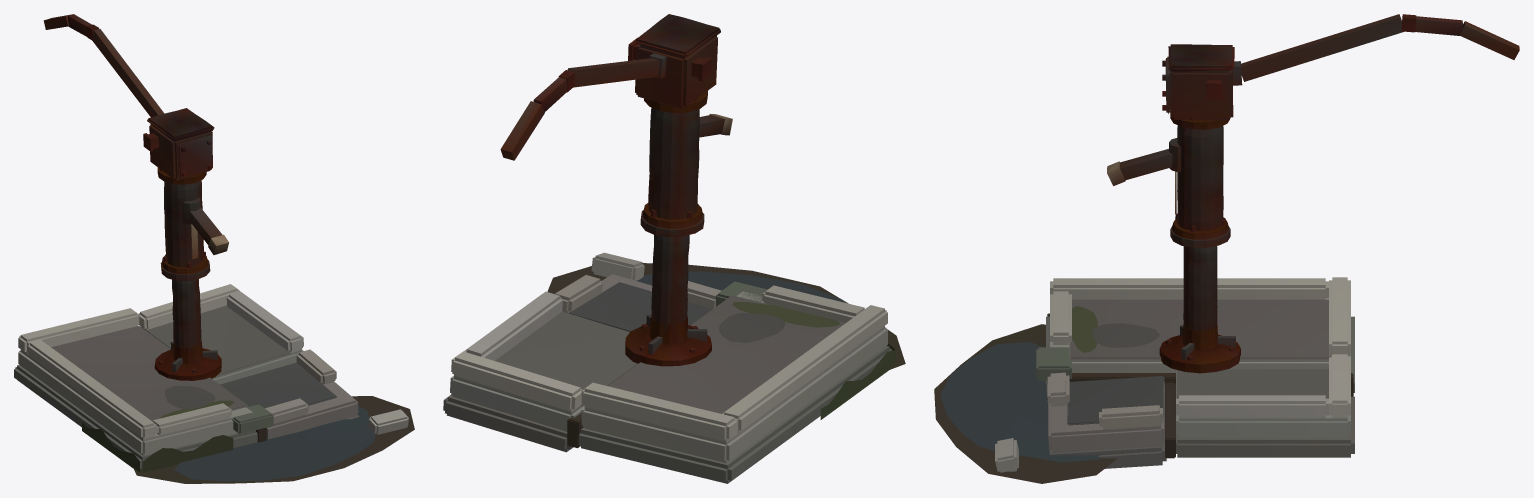
Rendered from pump_cracked_v2.glb.
3 renders of one model, left to right at view 1: azimuth 30°, elevation 25°; view 2: azimuth 150°, elevation 25°; view 3: azimuth 270°, elevation 25°, orthographic. The views are drawn at different scales.
Parts seen in each view (by area): view 1: hb_main, hb_metal; view 2: hb_main, hb_metal; view 3: hb_main, hb_metal.
Part boxes in pixels (x1,y1,x2,y2): hb_main: (14,284,414,483); hb_metal: (43,14,375,481); hb_main: (443,252,905,483); hb_metal: (500,14,846,366); hb_main: (934,277,1354,483); hb_metal: (940,14,1519,462).
Size of the model in its own units: 1.38 by 1.59 by 2.14.
